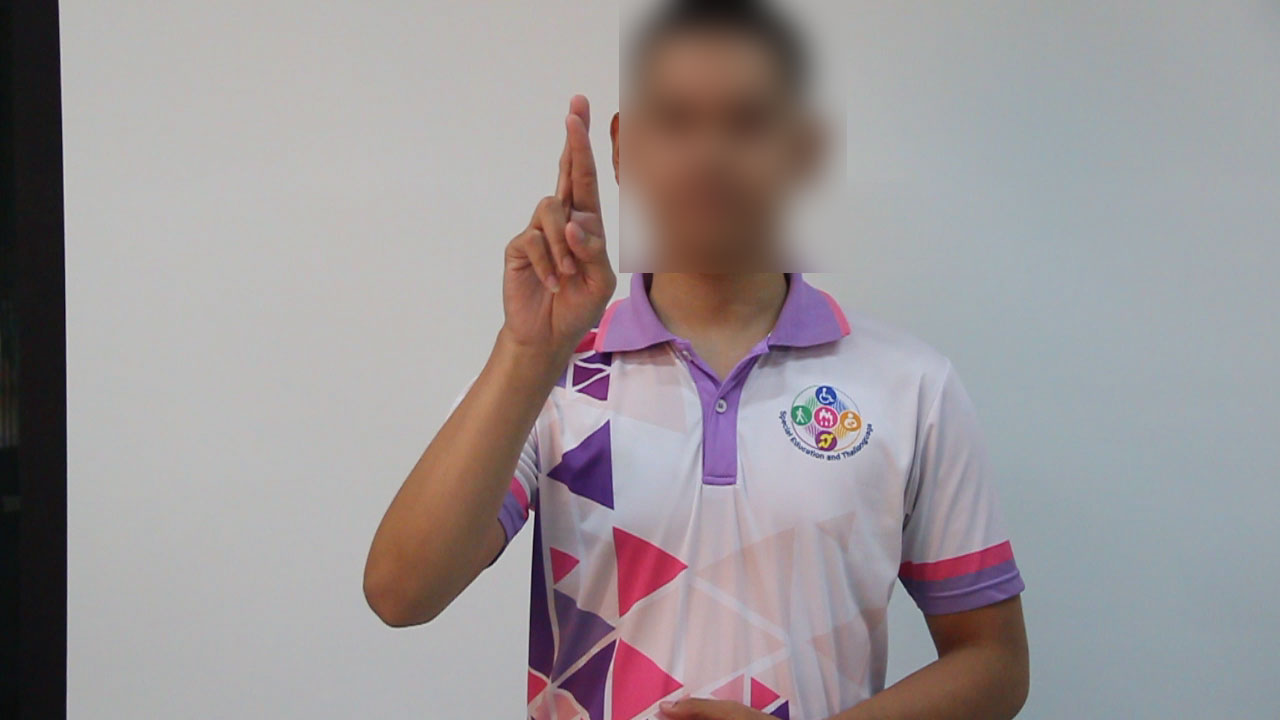rao: (476, 89, 625, 344)
